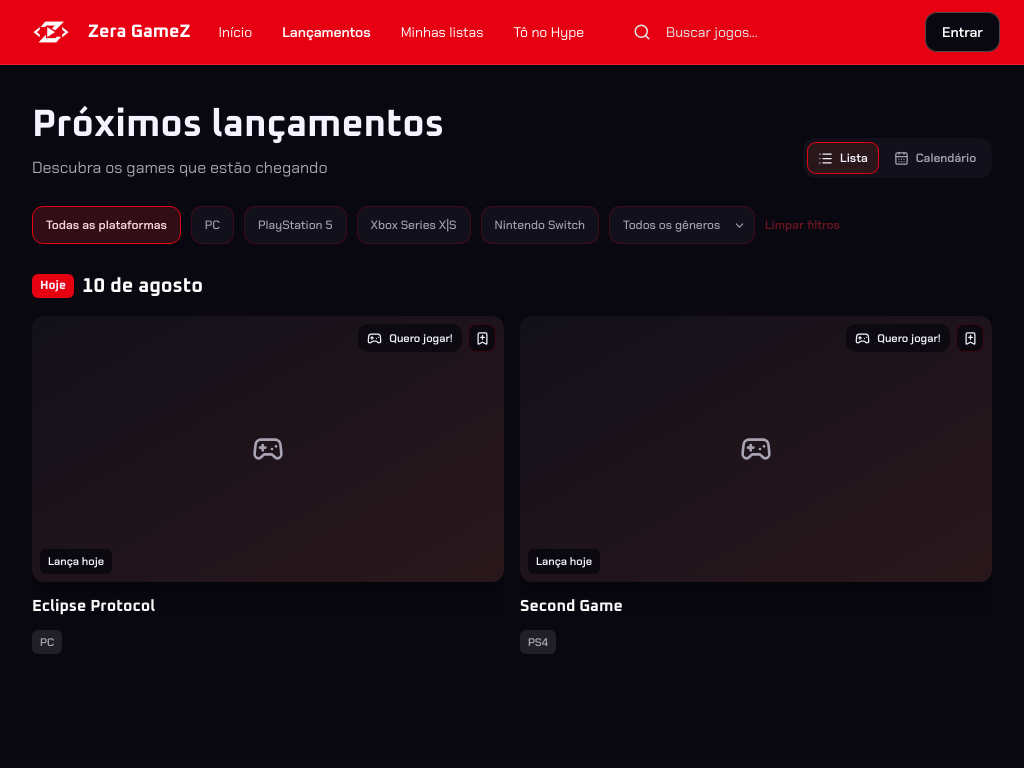
Zera GameZ › searches releases for the exact selected calendar date
The image size is (1024, 768).
Step 1. Click the button "Calendário" → (935, 158), box [883,142,987,174]
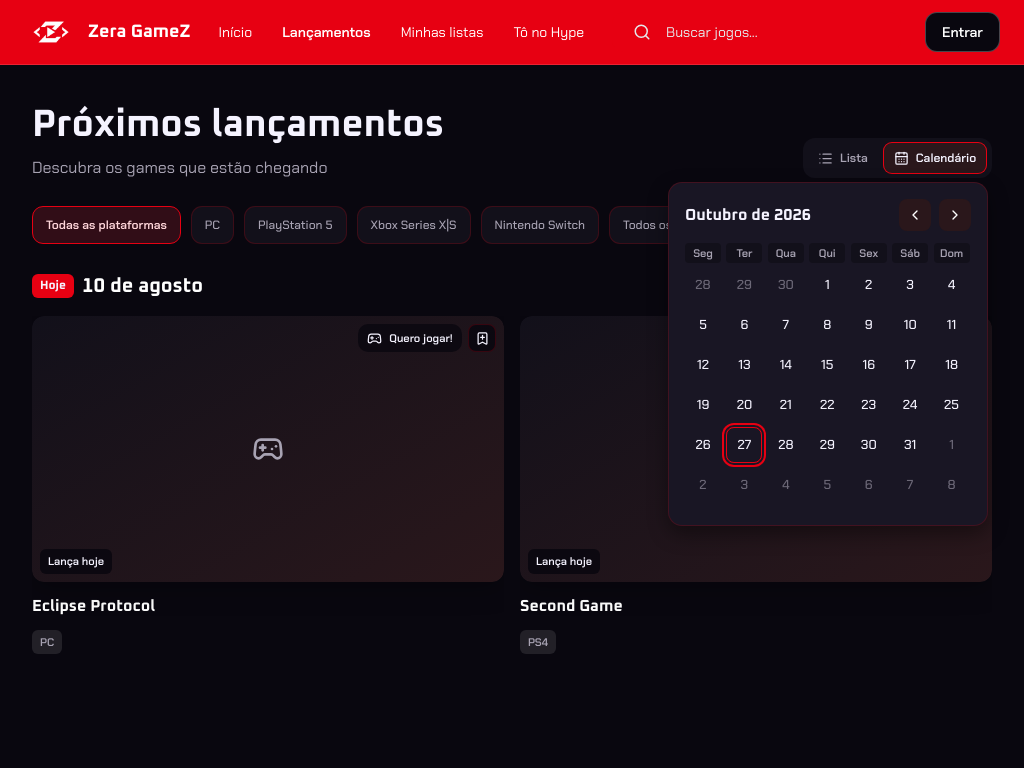
Step 2. Click the button "27" → (744, 445), box [726,427,762,463]
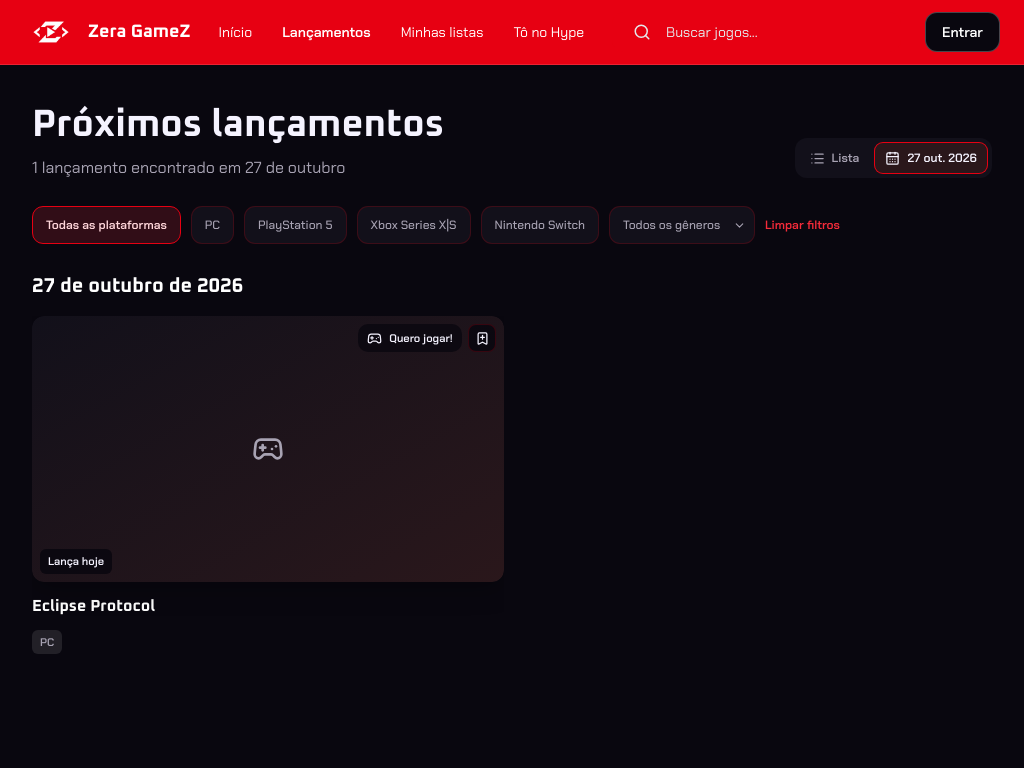
Now the dialog is gone
